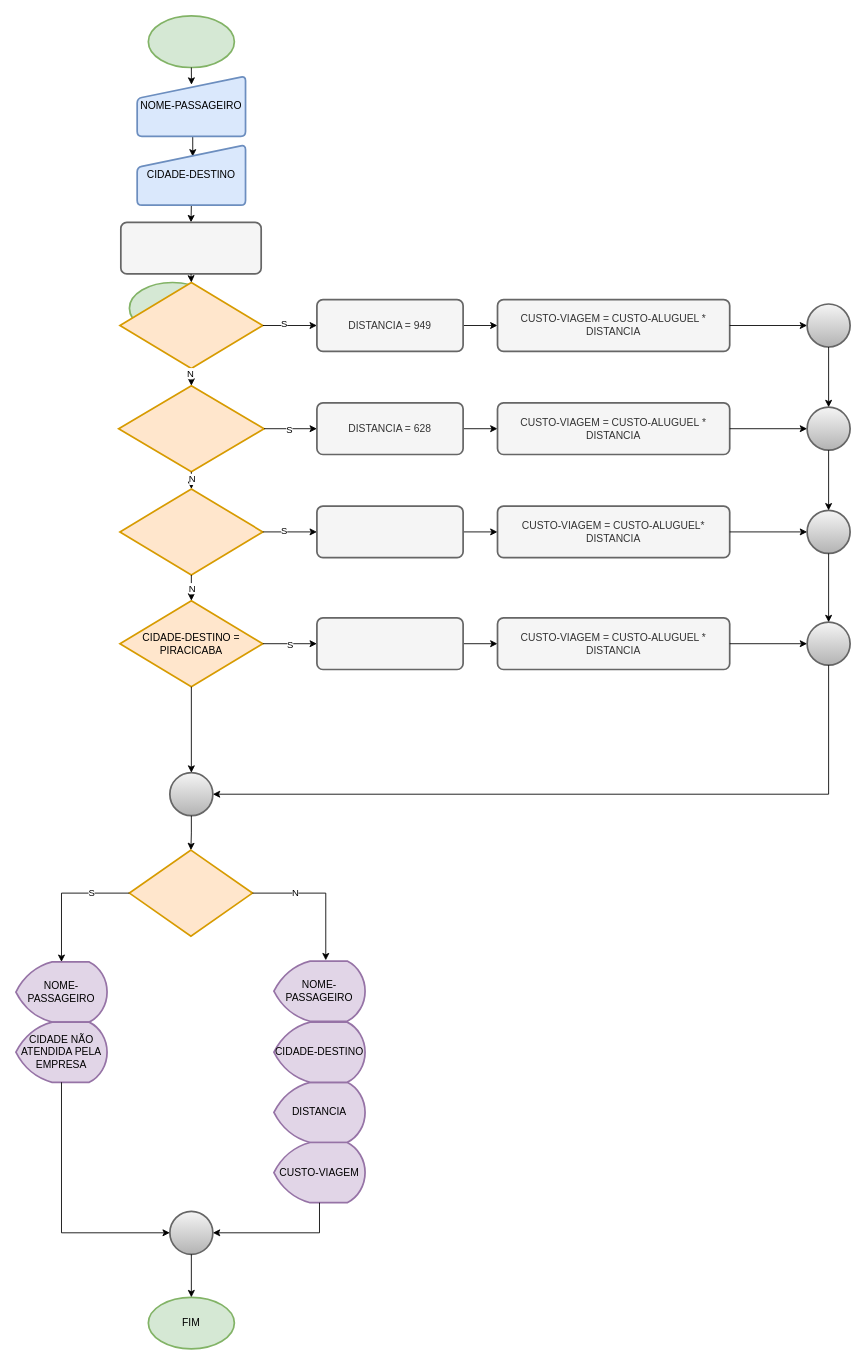
Image size: 865x1364. Some labels were removed from this diagram. The centre of each missing label's shape, as x and y in pixels:
CIDADE-DESTINO = MURIAÍ: (190,428)
CIDADE-DESTINO = NITEROI: (191,531)
CIDADE-DESTINO = VITORIA: (191,325)
CUSTO-VIAGEM = 0: (190,893)
CUSTO-VIAGEM = 0 CUSTO-ALUGUEL = 2.20: (191,247)
DISTANCIA = 168: (390,643)
DISTANCIA = 424: (390,531)
INICIO: (191,41)
